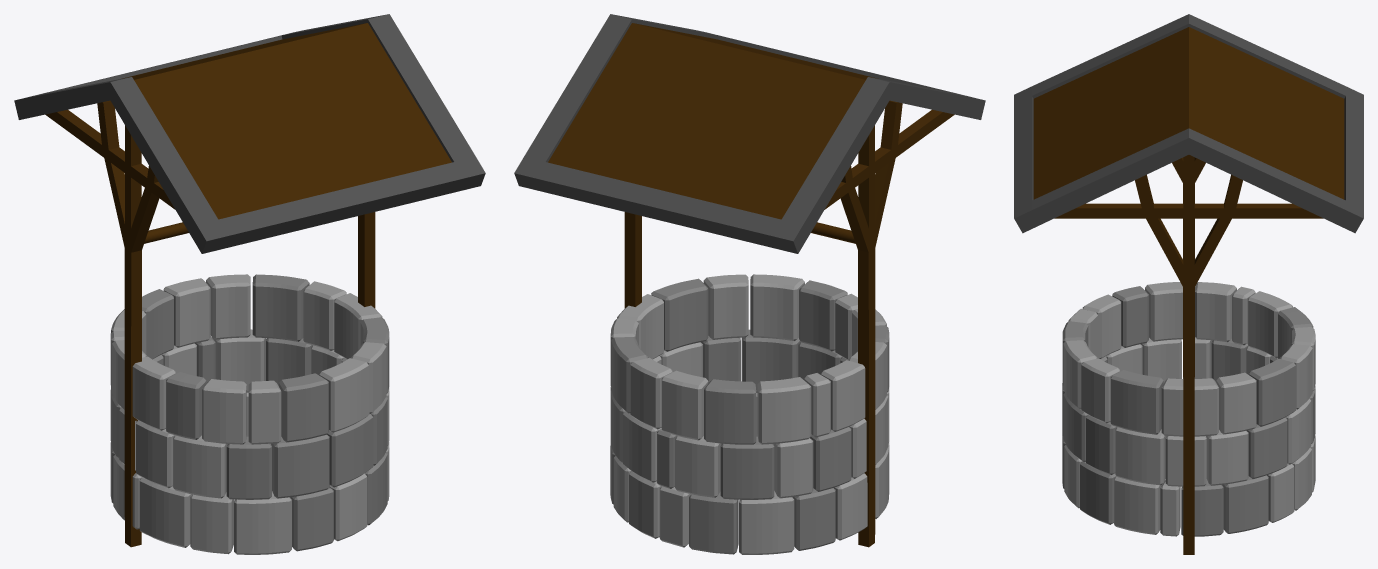
File: stone well.fbx
3 views of the same model, side by side, from view 1: azimuth 30°, elevation 25°; view 2: azimuth 150°, elevation 25°; view 3: azimuth 270°, elevation 25° (orthographic). The views are drawn at different scales.
Parts seen in each view (by area): view 1: Well; view 2: Well; view 3: Well.
Boxes of the visible parts, <box> form: Well: <box>14,14,485,554</box>; Well: <box>514,14,985,554</box>; Well: <box>1014,14,1363,554</box>.
Bounding box in the file's own units: 755 × 1207 × 901.
